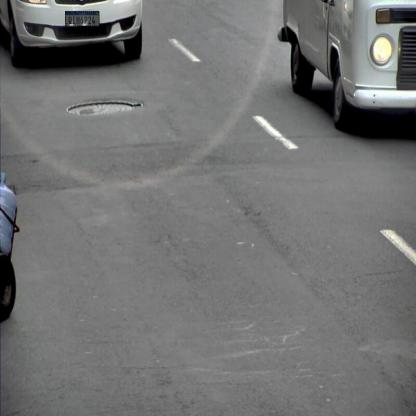PlacaM: (65, 11, 99, 26)
